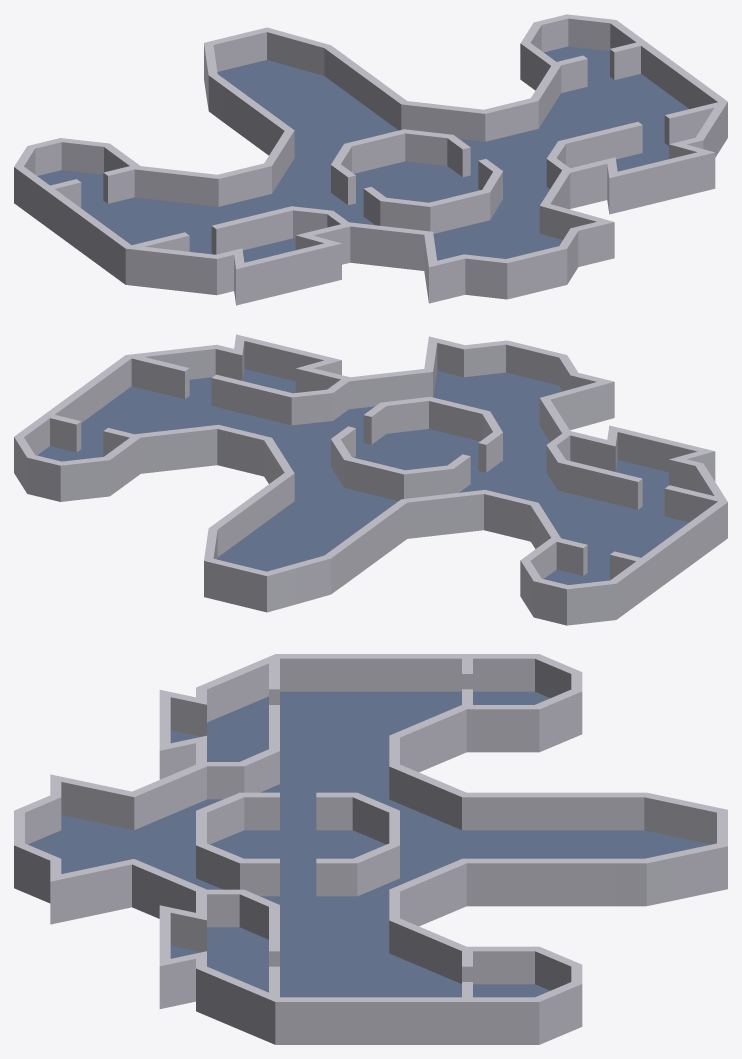
Rendered from SHIP_2.fbx.
The picture shows the model from 3 angles, top to bottom: view 1: azimuth 30°, elevation 25°; view 2: azimuth 150°, elevation 25°; view 3: azimuth 270°, elevation 25°; orthographic projection. The views are drawn at different scales.
Parts seen in each view (by area): view 1: Plane; view 2: Plane; view 3: Plane.
Boxes of the visible parts, bbox=[...] form: Plane: bbox=[14, 14, 727, 305]; Plane: bbox=[14, 334, 727, 625]; Plane: bbox=[14, 654, 727, 1044].
Bounding box in the file's own units: 226 × 13 × 196.
